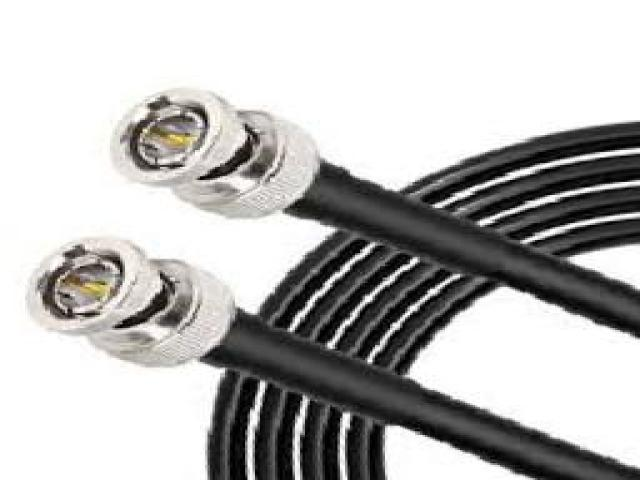wire: (29, 90, 640, 480)
